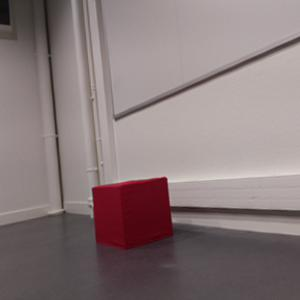medium: (90, 176, 175, 250)
